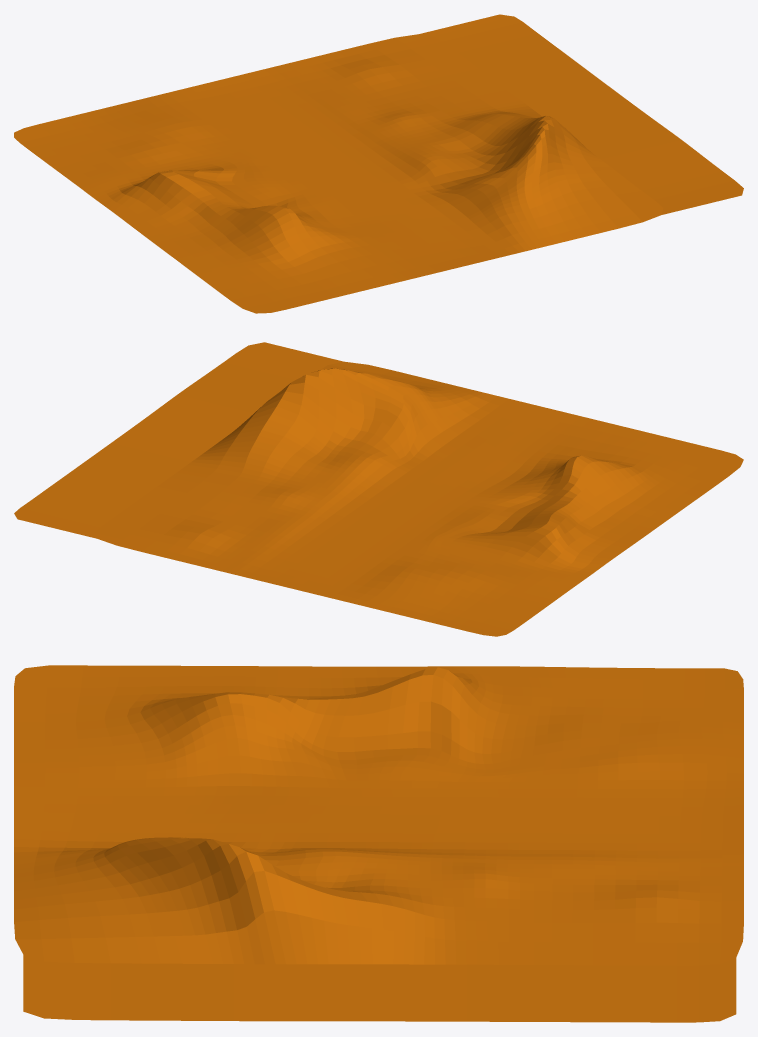
File: desert.yenı 1.fbx
3 renders of one model, top to bottom at view 1: azimuth 30°, elevation 25°; view 2: azimuth 150°, elevation 25°; view 3: azimuth 270°, elevation 25°, orthographic. The views are drawn at different scales.
Parts seen in each view (by area): view 1: Plane.003; view 2: Plane.003; view 3: Plane.003.
Boxes of the visible parts, left/top/right/bottom form: Plane.003: left=14, top=14, right=743, bottom=313; Plane.003: left=14, top=342, right=743, bottom=636; Plane.003: left=14, top=665, right=743, bottom=1022.
Size of the model in its own units: 1776 by 188 by 1535.
